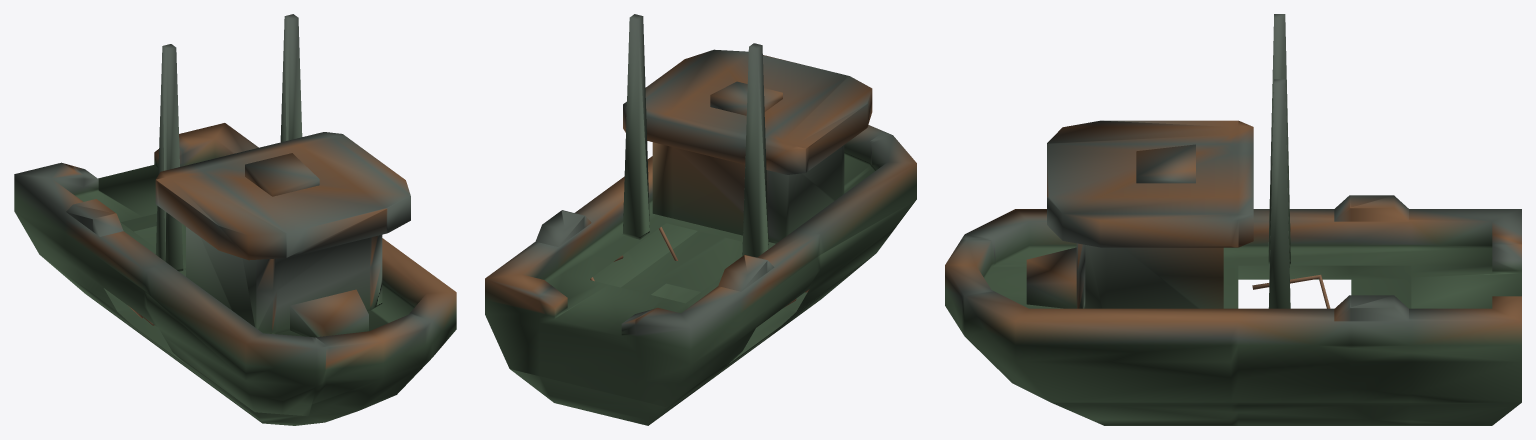
File: sunken-boat.glb
3 views of the same model, side by side, from view 1: azimuth 30°, elevation 25°; view 2: azimuth 150°, elevation 25°; view 3: azimuth 270°, elevation 25° (orthographic). The views are drawn at different scales.
Visible parts, largest first — view 1: sunken-boat; view 2: sunken-boat; view 3: sunken-boat.
Part boxes in pixels (bbox=[...]): sunken-boat: bbox=[14, 14, 456, 425]; sunken-boat: bbox=[485, 14, 916, 425]; sunken-boat: bbox=[945, 14, 1521, 425].
Bounding box in the file's own units: 2.77 × 4.03 × 6.
